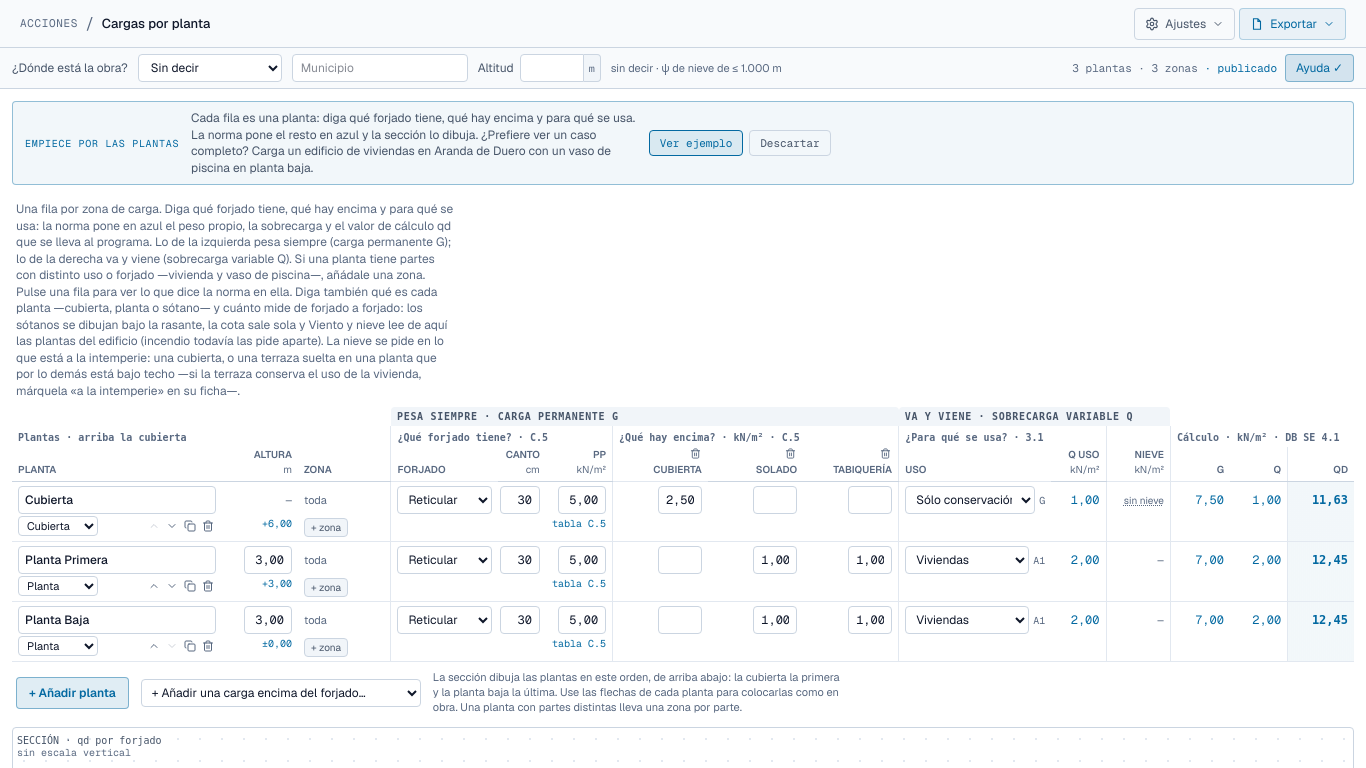
Test: Cargas por planta — la tabla › cambiar el uso cambia la sobrecarga que pone la norma
Select "Gimnasios" in the dropdown named "Uso de Planta Baja": (967, 620) x1=905 y1=606 x2=1029 y2=634
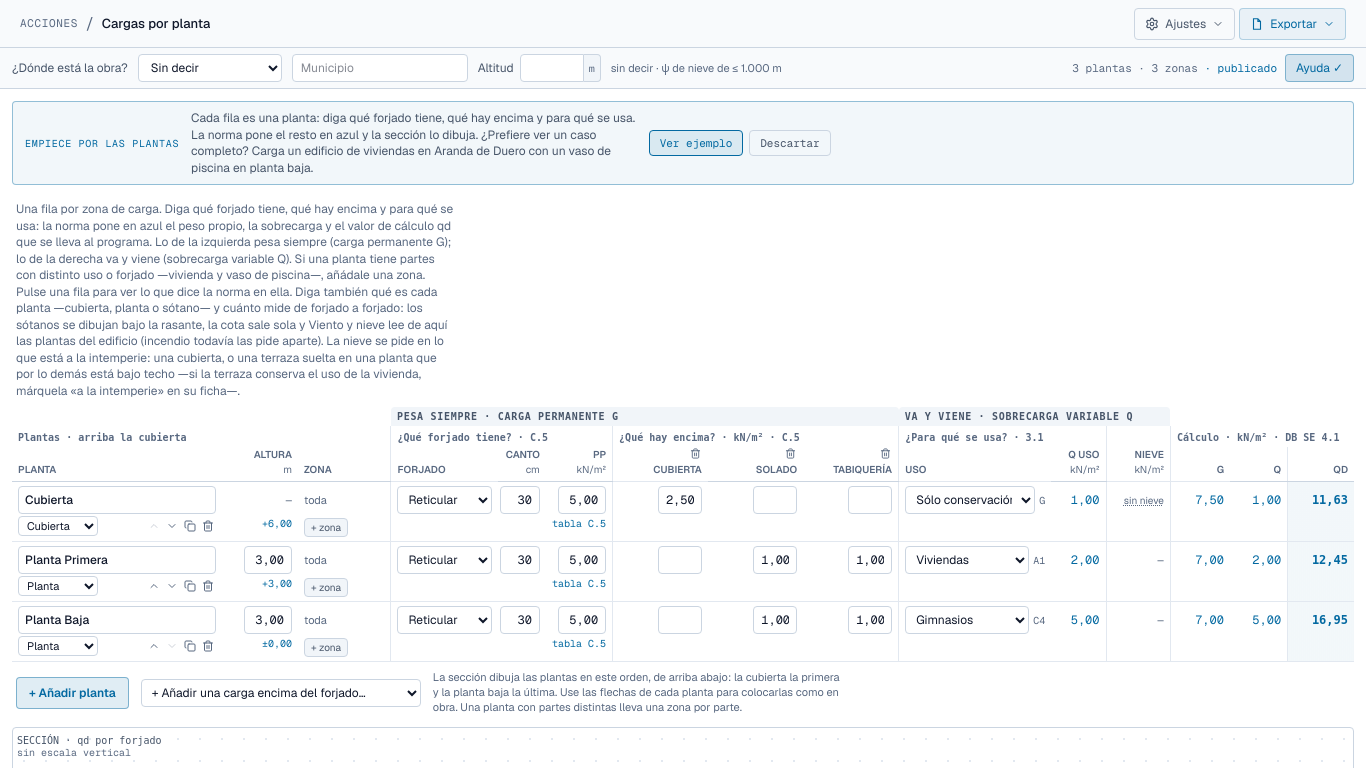
Expected: the 1st element titled "C4 — gimnasios" reads "5,00", x1=1071 y1=612 x2=1100 y2=628
